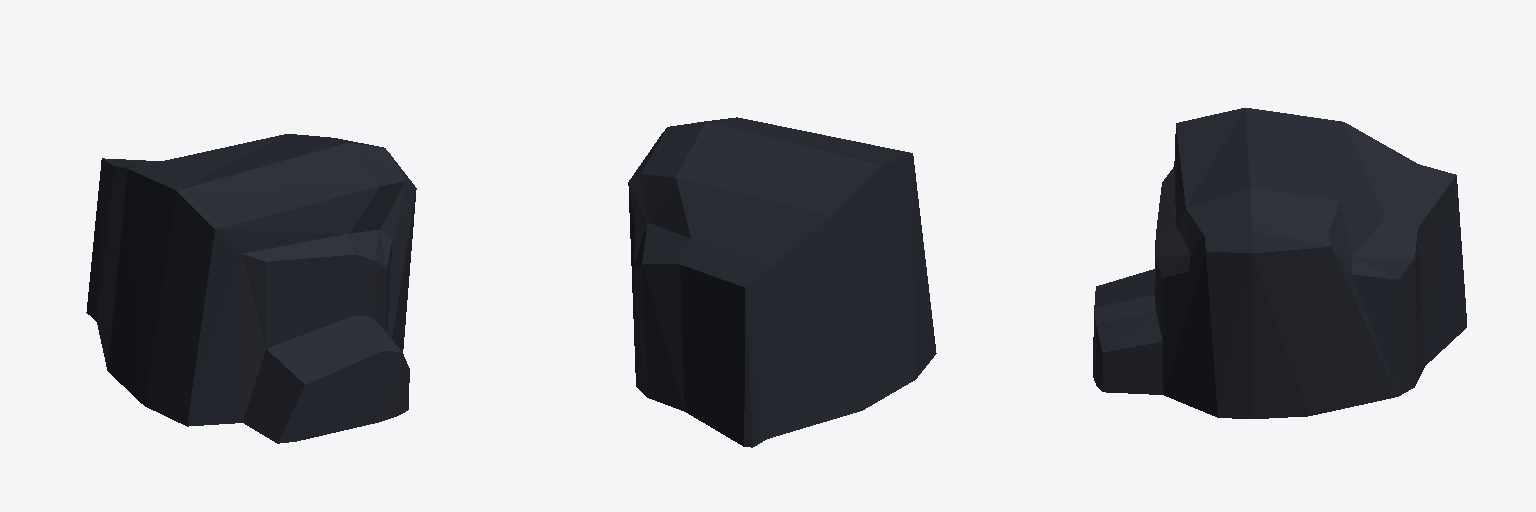
File: Rock6.obj
3 renders of one model, left to right at view 1: azimuth 30°, elevation 25°; view 2: azimuth 150°, elevation 25°; view 3: azimuth 270°, elevation 25°, orthographic.
Parts seen in each view (by area): view 1: Rock_6_Cube.026; view 2: Rock_6_Cube.026; view 3: Rock_6_Cube.026.
Part boxes in pixels (bbox=[...]): Rock_6_Cube.026: bbox=[86, 134, 416, 443]; Rock_6_Cube.026: bbox=[628, 117, 936, 447]; Rock_6_Cube.026: bbox=[1093, 108, 1466, 418].
Bounding box in the file's own units: 0.912 × 0.7078 × 1.14.